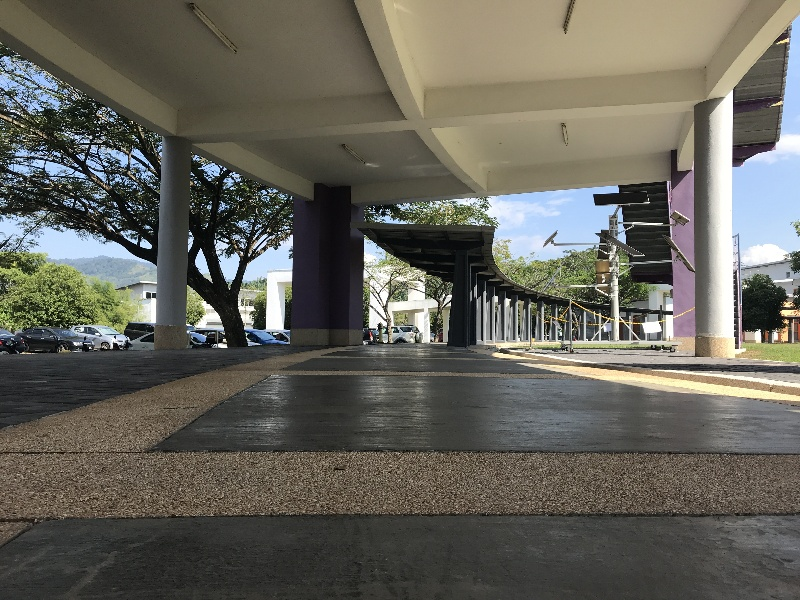pillar: (673, 91, 744, 372), (279, 170, 373, 357), (146, 128, 196, 354), (444, 245, 471, 358)
